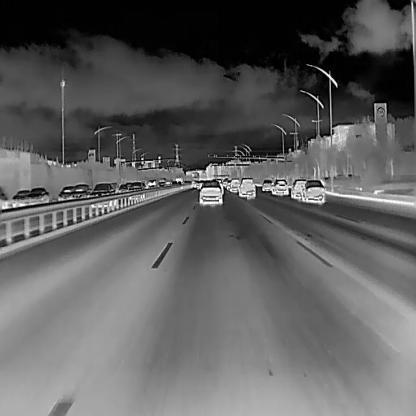car: (298, 179, 325, 204), (197, 180, 222, 204), (26, 185, 50, 208), (92, 181, 115, 204), (68, 183, 91, 204), (11, 189, 31, 210), (237, 177, 256, 199), (289, 178, 309, 198), (271, 177, 289, 196), (57, 184, 74, 204), (128, 181, 145, 195), (115, 183, 128, 197), (260, 179, 274, 192), (228, 177, 240, 192), (146, 177, 156, 191), (174, 174, 184, 186), (157, 176, 167, 187), (189, 180, 198, 188), (170, 179, 178, 187)
